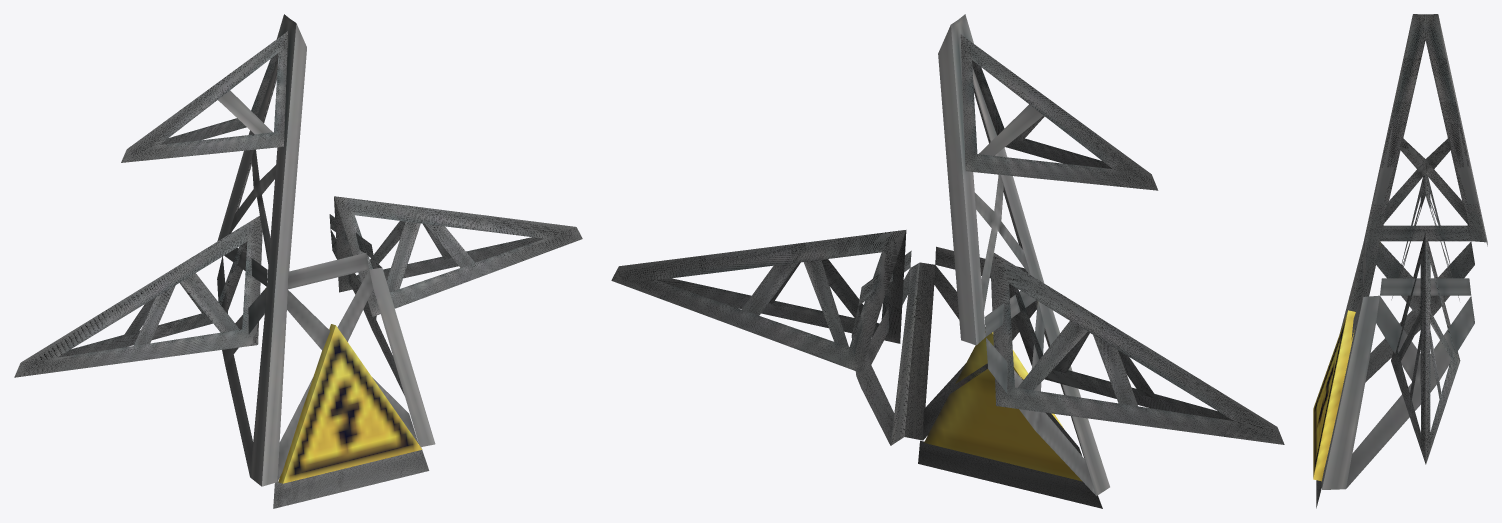
The model's file is B2Broke4.FBX.
The picture shows the model from 3 angles, left to right: view 1: azimuth 30°, elevation 25°; view 2: azimuth 150°, elevation 25°; view 3: azimuth 270°, elevation 25°; orthographic projection. The views are drawn at different scales.
Visible parts, largest first — view 1: B2Broke4 (×2); view 2: B2Broke4 (×2); view 3: B2Broke4 (×2).
Boxes of the visible parts, x1=… form: B2Broke4 (×2): x1=14, y1=14, x2=582, y2=508; B2Broke4 (×2): x1=611, y1=14, x2=1284, y2=508; B2Broke4 (×2): x1=1313, y1=14, x2=1487, y2=508.
Bounding box in the file's own units: 169 × 123 × 43.17.
